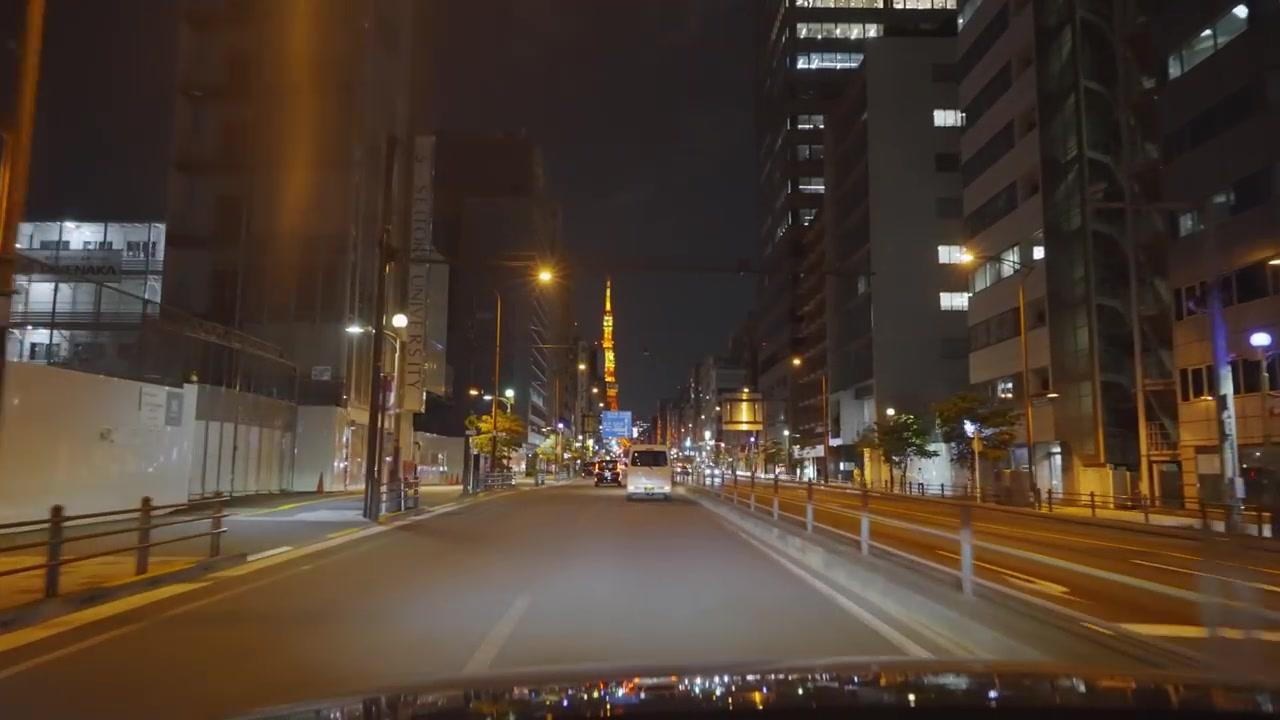bus: (624, 445, 671, 502)
car: (594, 466, 623, 485)
